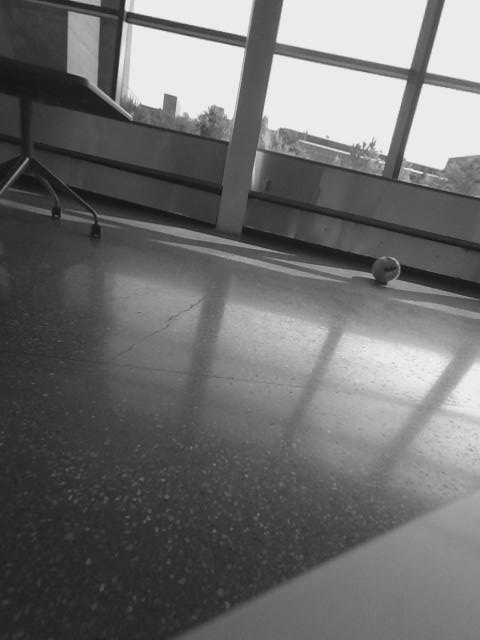ball: (368, 255, 400, 287)
